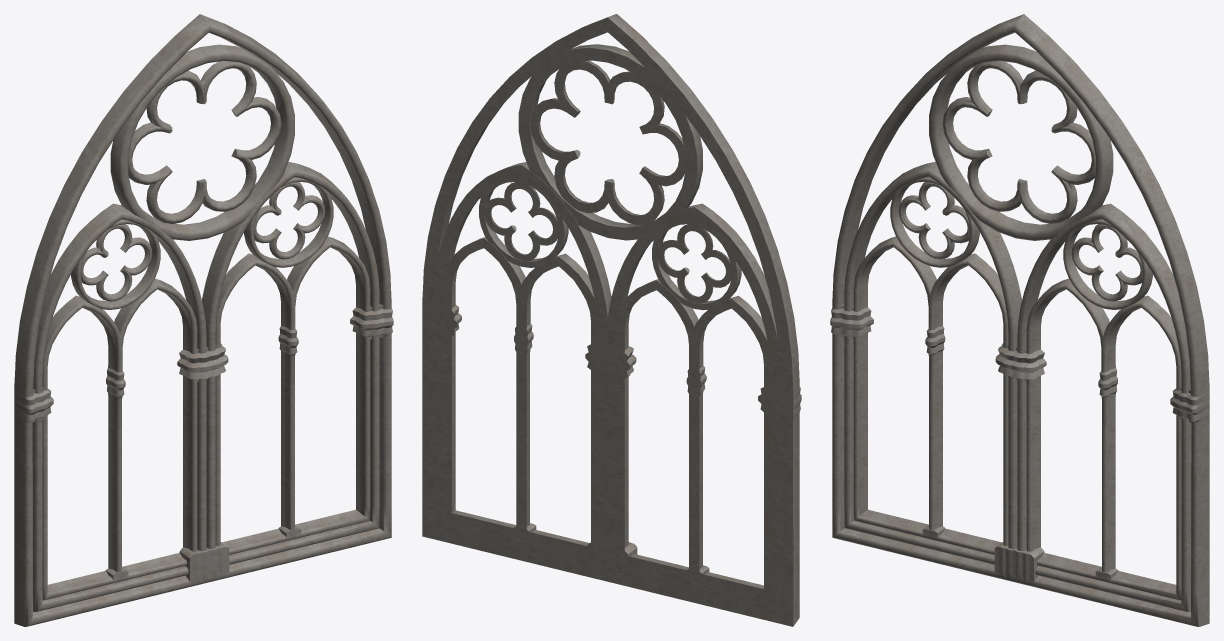
File: big_gothic_window.glb
3 views of the same model, side by side, from view 1: azimuth 30°, elevation 25°; view 2: azimuth 150°, elevation 25°; view 3: azimuth 330°, elevation 25° (orthographic).
Visible parts, largest first — view 1: big_gothic_window; view 2: big_gothic_window; view 3: big_gothic_window.
Boxes of the visible parts, x1,y1,x2,y2 form: big_gothic_window: (14, 14, 393, 626); big_gothic_window: (422, 14, 801, 626); big_gothic_window: (830, 14, 1209, 626).
Bounding box in the file's own units: 4.71 × 6.84 × 0.2802.
1 material, 1 textured.
